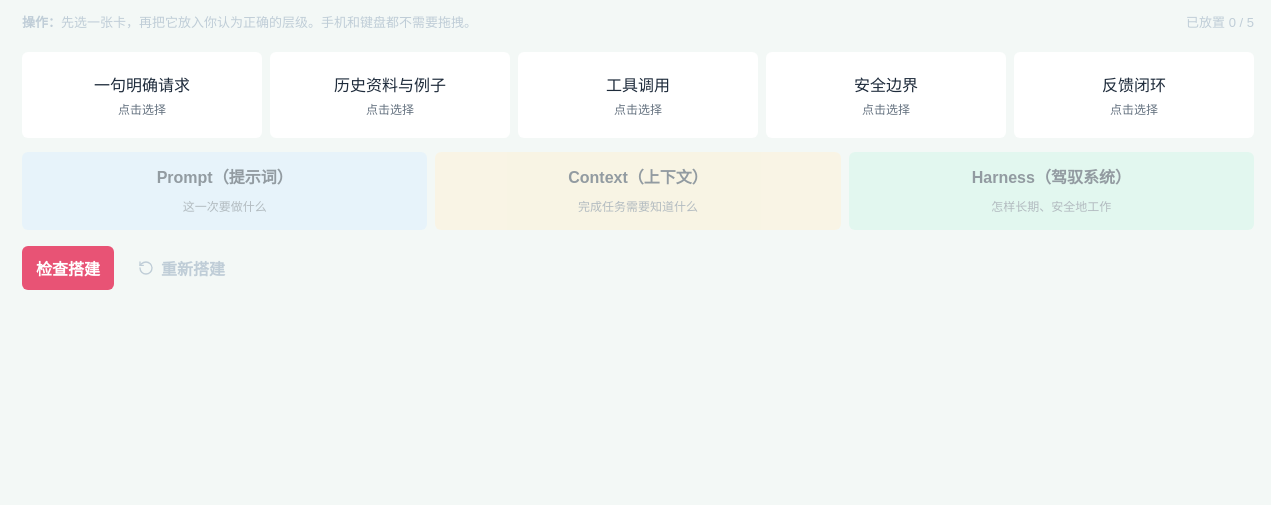
ScopeBuilder › lets a beginner place a system card and explains the result
Click the button with aria-label "选择安全边界". click: (886, 95)
box: [766,52,1006,138]
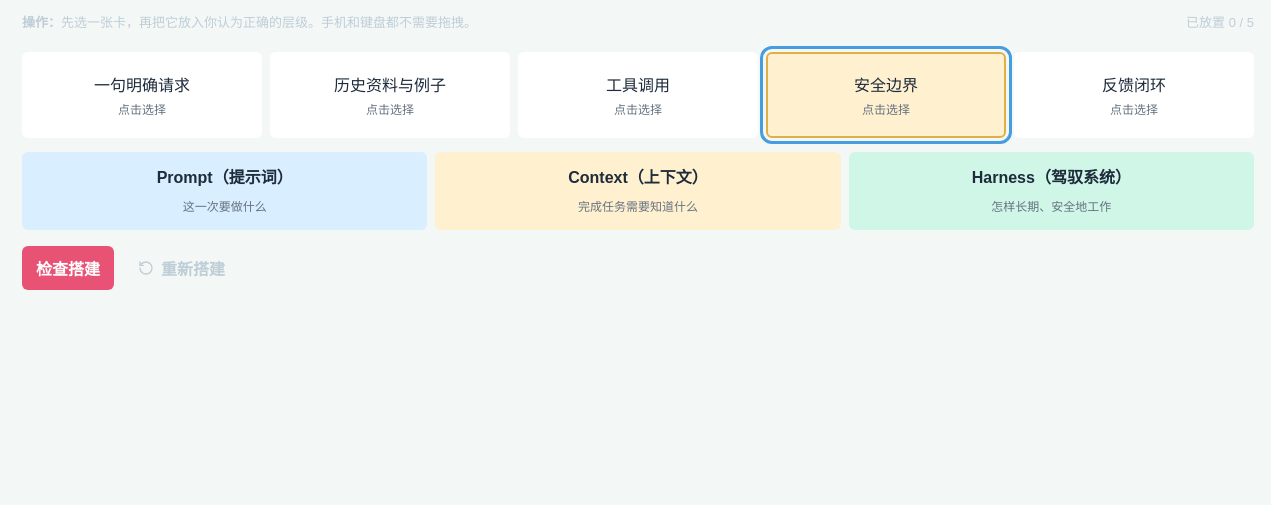
Click the button with aria-label "放入 Harness（驾驭系统）层". click: (1051, 178)
box: [849,152,1254,230]
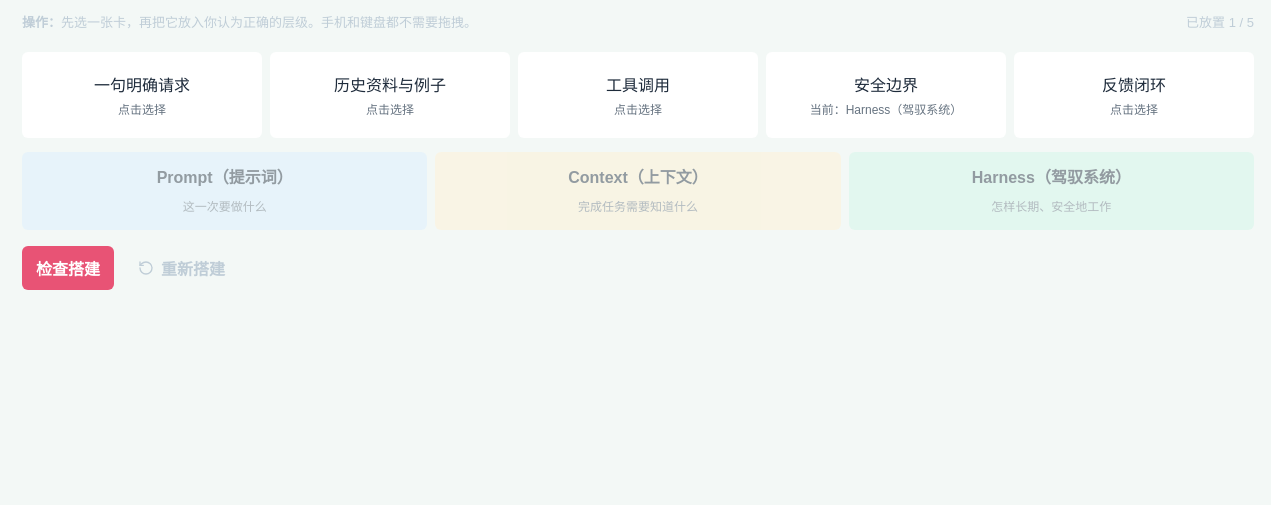
Click the button "检查搭建". click: (68, 268)
box: [22,246,114,290]
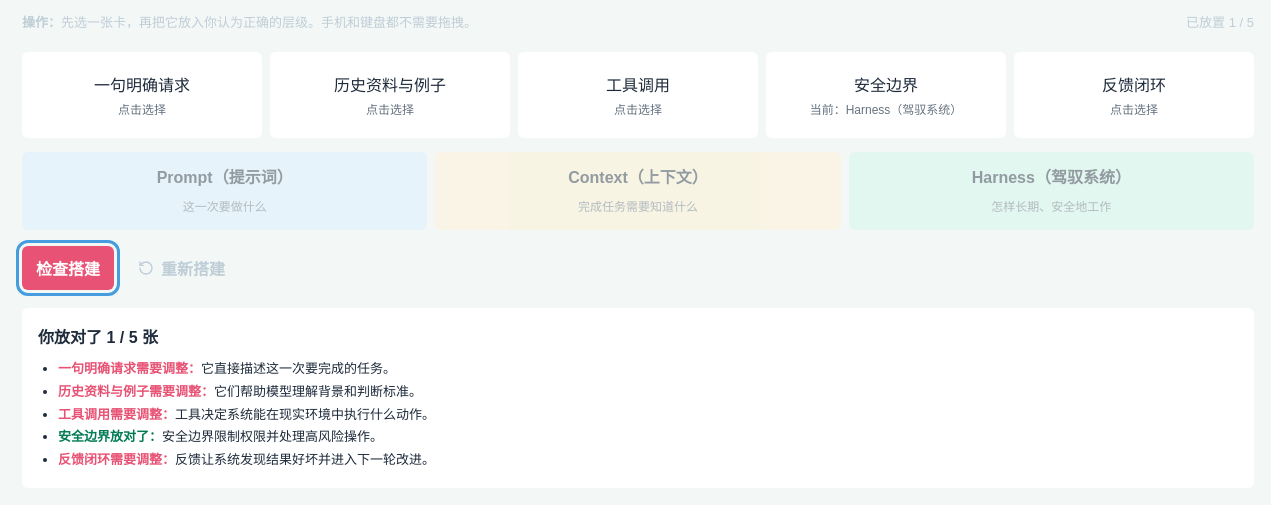
Expected: the button "重新搭建" is shown, [124,246,239,290]
Expected: the text "安全边界放对了：" is shown, [58,429,162,444]
